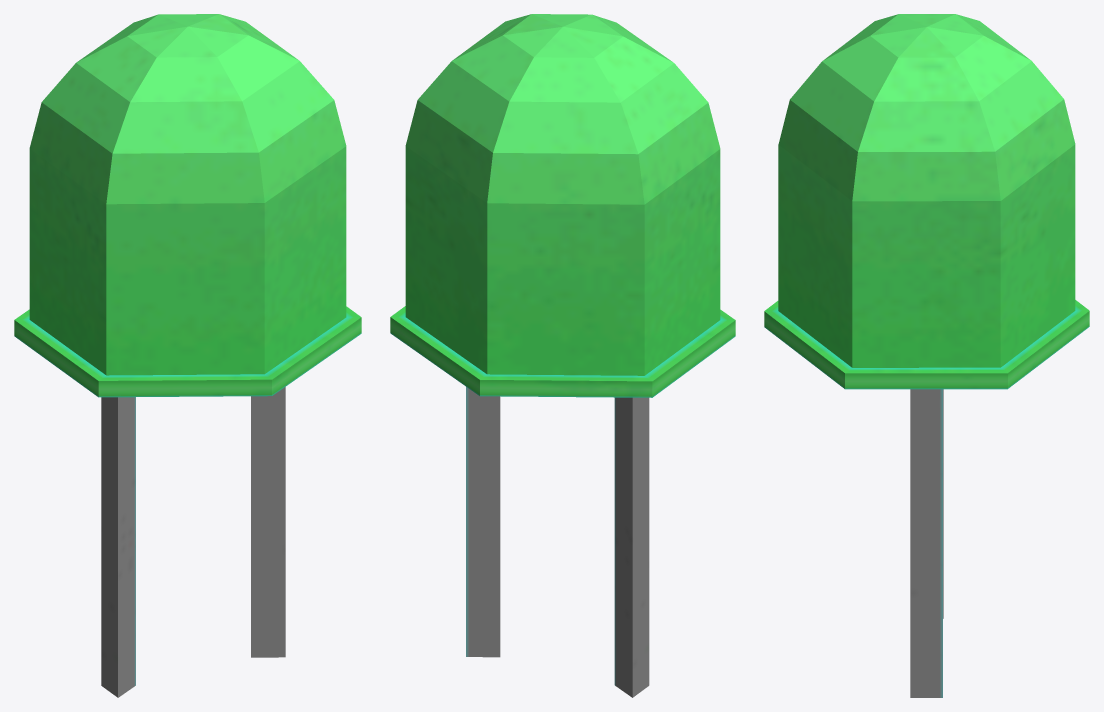
File: LEDGreen.obj
3 views of the same model, side by side, from view 1: azimuth 30°, elevation 25°; view 2: azimuth 150°, elevation 25°; view 3: azimuth 270°, elevation 25° (orthographic). The views are drawn at different scales.
Parts seen in each view (by area): view 1: LEDGreen_Sphere.010; view 2: LEDGreen_Sphere.010; view 3: LEDGreen_Sphere.010.
Boxes of the visible parts, bbox=[...] form: LEDGreen_Sphere.010: bbox=[14, 14, 361, 697]; LEDGreen_Sphere.010: bbox=[390, 14, 735, 697]; LEDGreen_Sphere.010: bbox=[764, 14, 1089, 697].
Size of the model in its own units: 0.1921 by 0.4509 by 0.2115.
